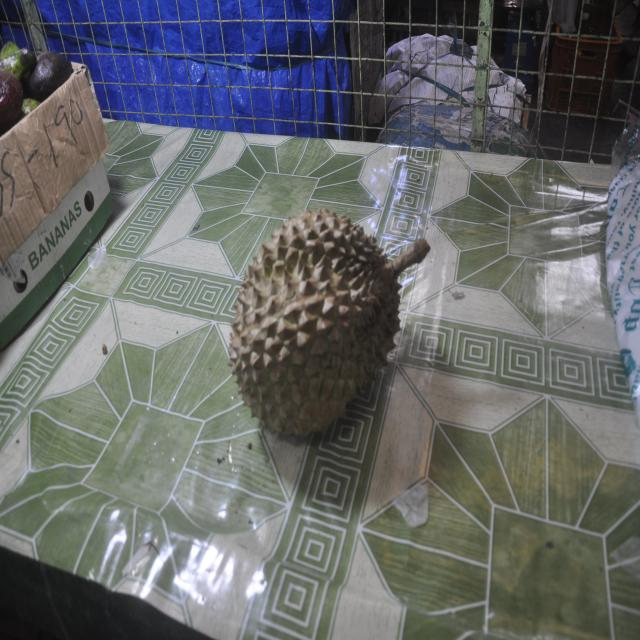mature: (230, 209, 429, 435)
